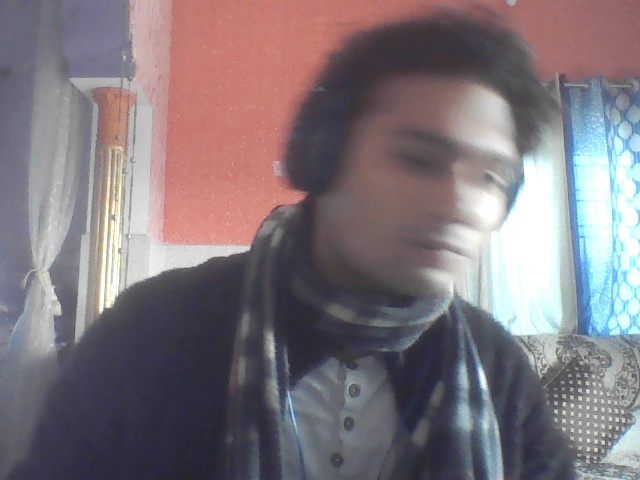real: (309, 14, 527, 323)
